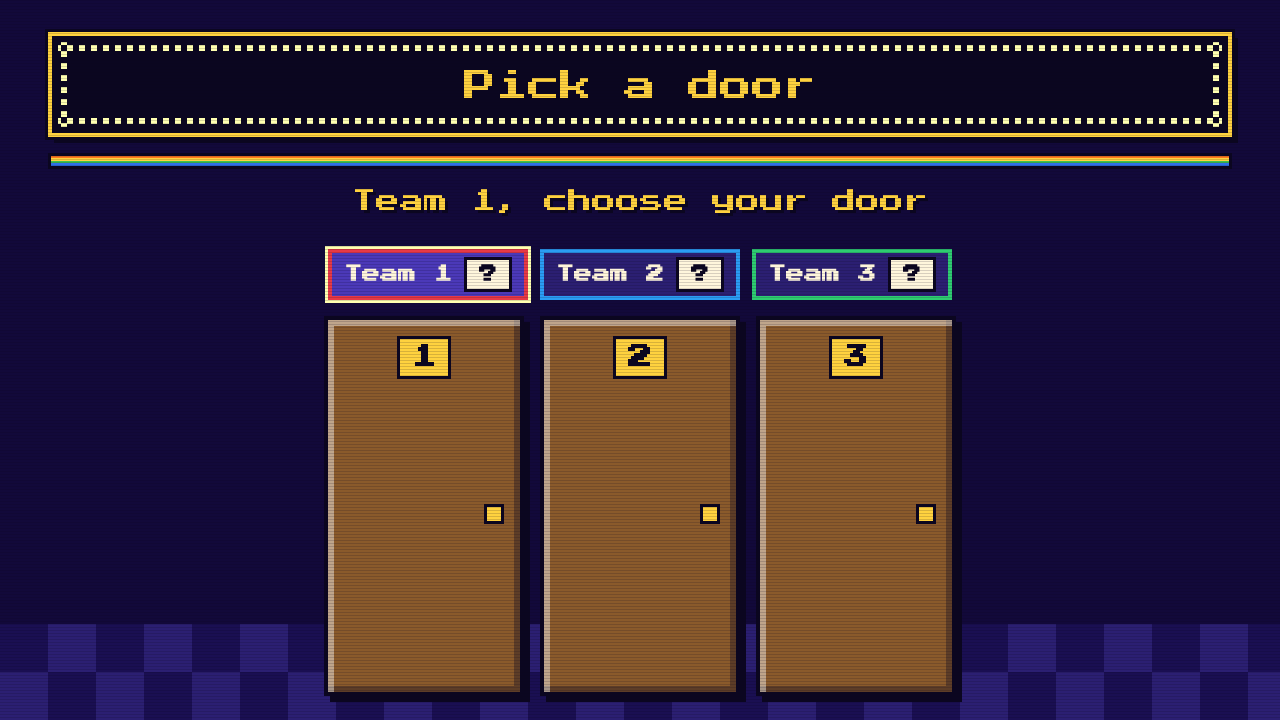
Scenario: DoorSelection › lets the host pick for a different team and change a pick
Click the button with aria-label "Team 3, no door yet" at (852, 274), box [752, 249, 952, 300]
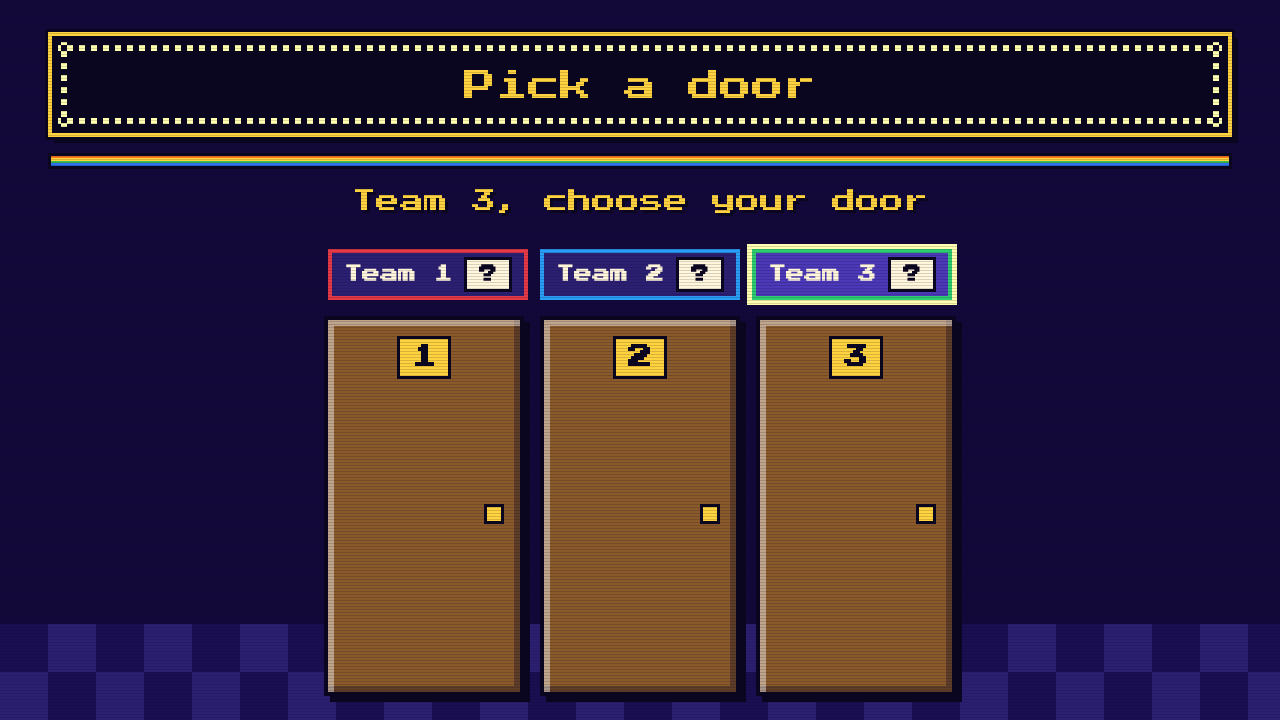
Expected: the message reads "Team 3, choose your door", [352, 189, 928, 213]
Click the button named "Door 1" at (424, 506), box [324, 316, 524, 696]
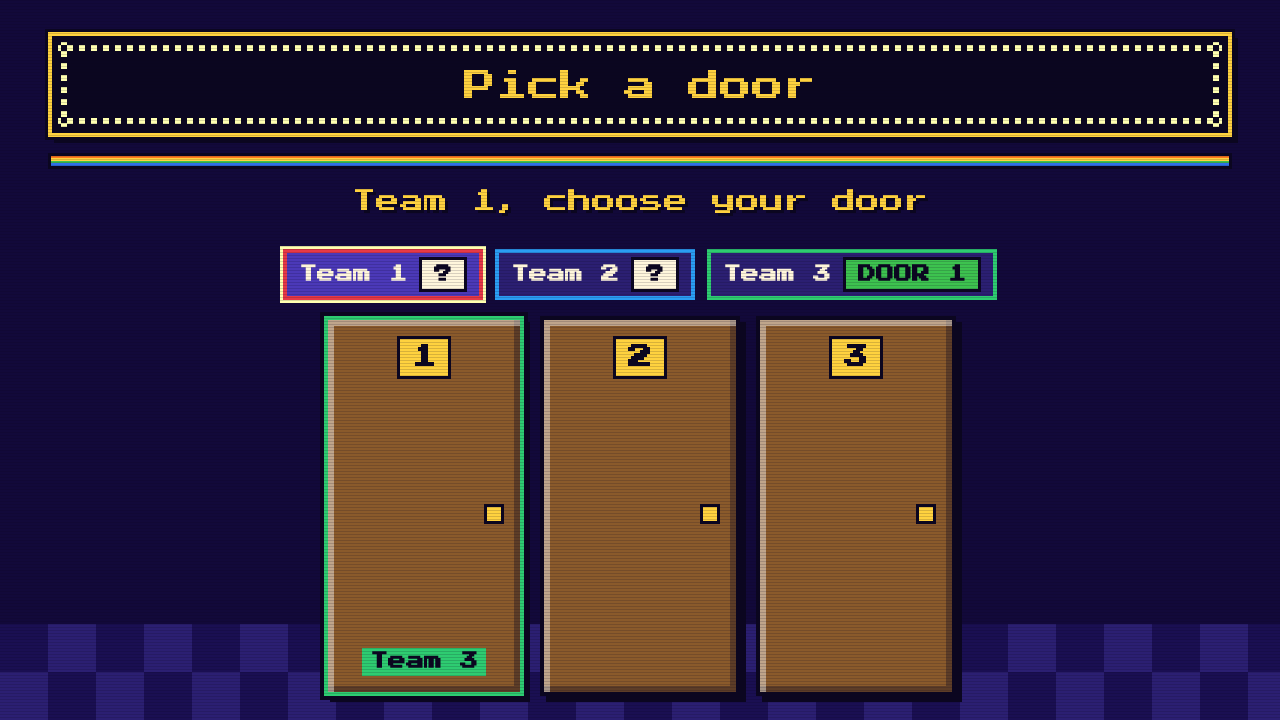
Expected: the button with aria-label "Team 3, door 1" is shown
Click the button with aria-label "Team 3, door 1" at (852, 274), box [707, 249, 997, 300]
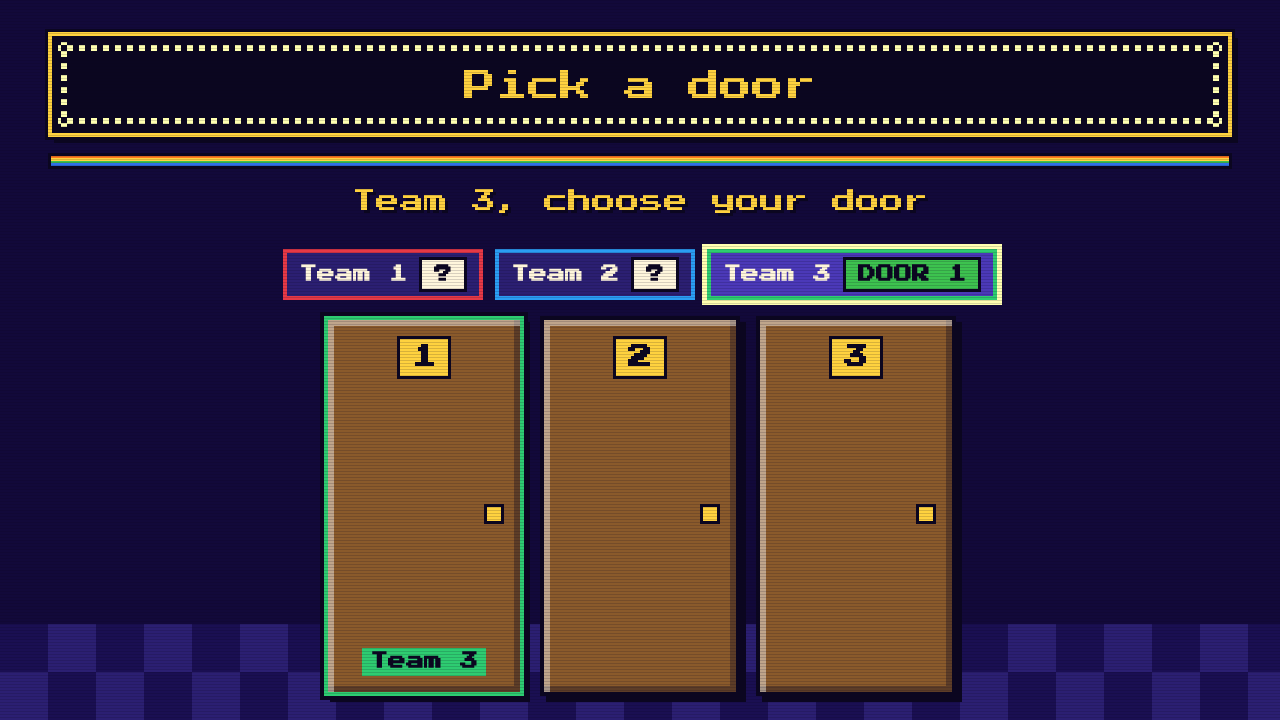
Click the button named "Door 3" at (856, 506), box [756, 316, 956, 696]
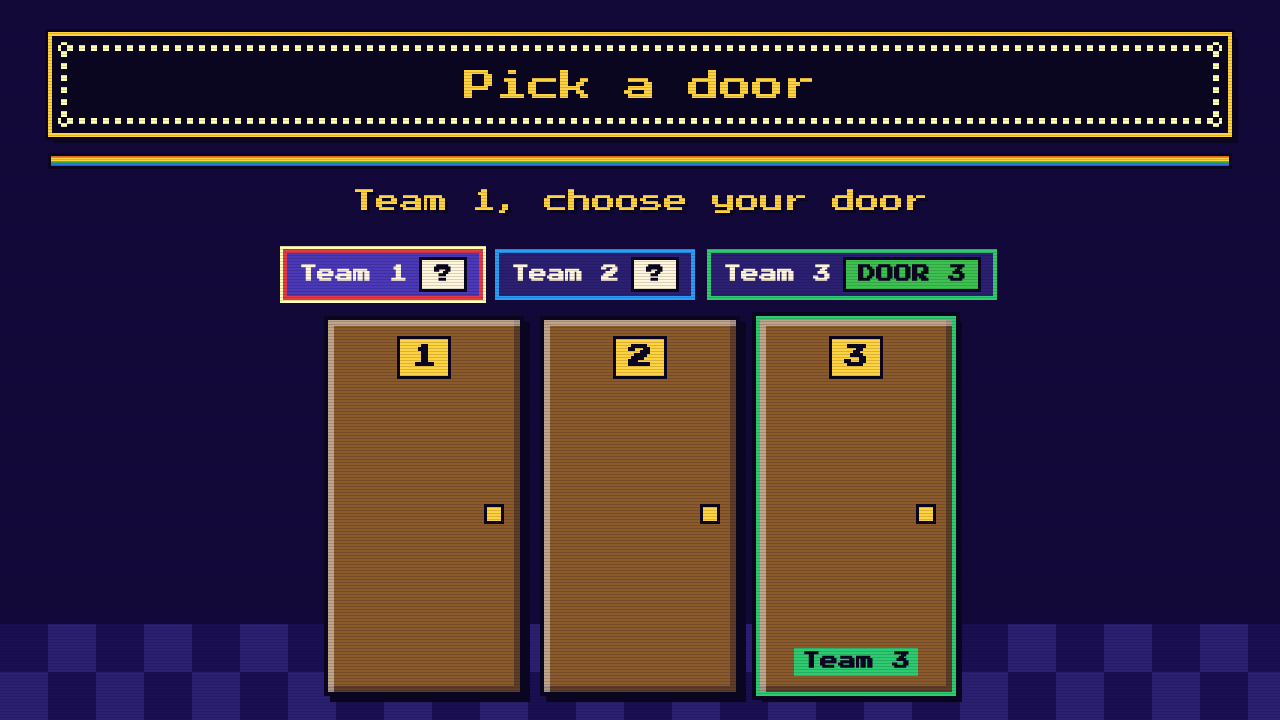
Expected: the button named "Door 1" is enabled, [324, 316, 524, 696]
Expected: the button with aria-label "Team 3, door 3" is shown, [707, 249, 997, 300]
